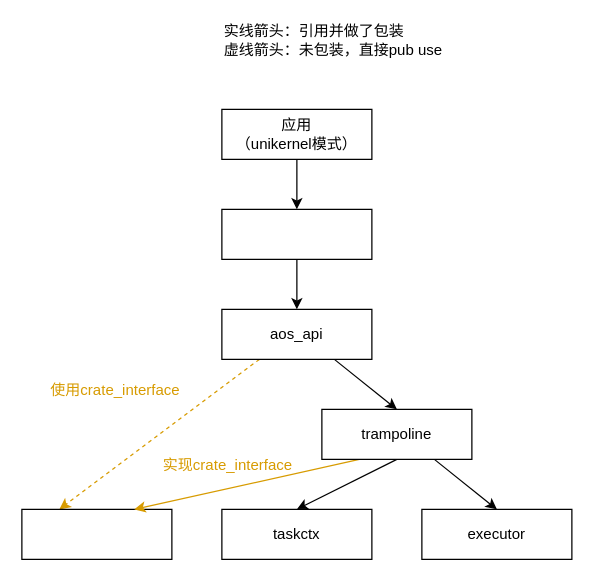
This 594x581 diagram has some shape labels left out. The shapes that lost their labels are listed below. From the top down, each one's centre as x and y in pixels, then its label:
At (296,233): "async_std".
At (96,533): "modules/task_ api".
